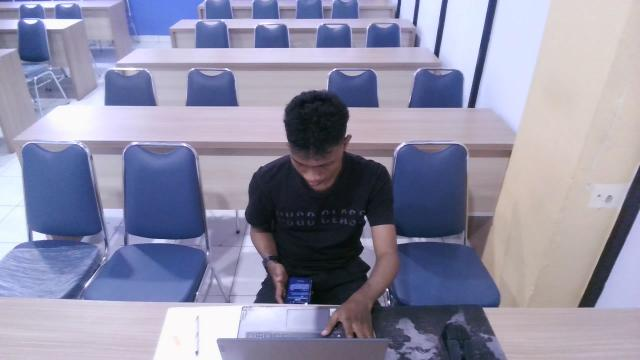Head_Down_Extreme: (231, 89, 405, 355)
Mobile_Phone: (280, 267, 315, 305)
